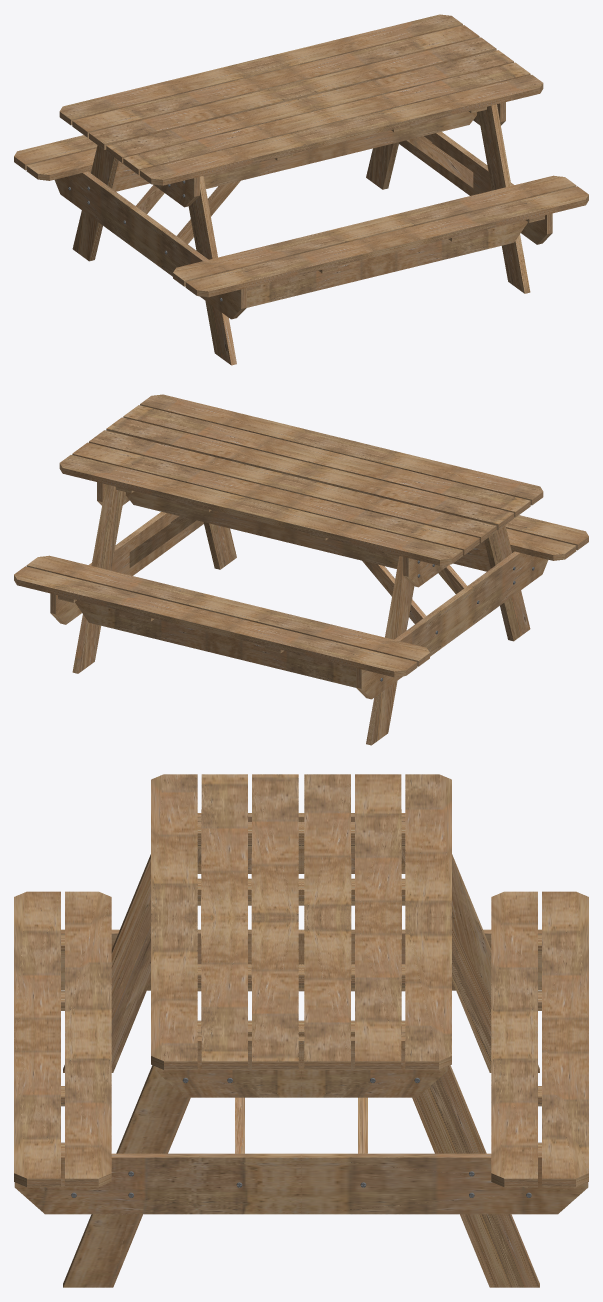
The model's file is wood_picnic_table.glb.
3 views of the same model, one above another, from view 1: azimuth 30°, elevation 25°; view 2: azimuth 150°, elevation 25°; view 3: azimuth 270°, elevation 25° (orthographic). The views are drawn at different scales.
Size of the model in its own units: 4.82 by 2.04 by 4.08.
2 materials, 1 textured.
